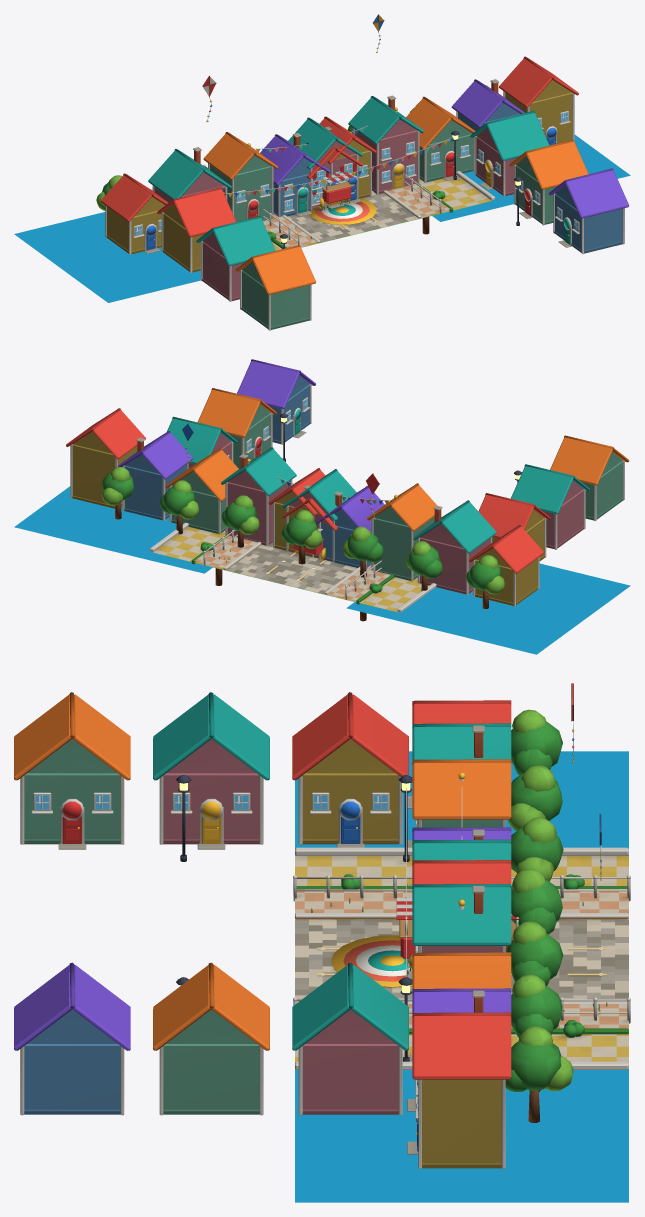
File: runner.glb
3 views of the same model, one above another, from view 1: azimuth 30°, elevation 25°; view 2: azimuth 150°, elevation 25°; view 3: azimuth 270°, elevation 25° (orthographic). The views are drawn at different scales.
Visible parts, largest first — view 1: Run_backdrop_Gloss, Run_backdrop_Satin, Run_track_pier_Water, Run_track_town_Satin, Run_plaza_Satin, Run_house1_Gloss, Run_plaza_Matte, Run_house1_Satin; view 2: Run_backdrop_Satin, Run_backdrop_Gloss, Run_track_pier_Water, Run_track_town_Satin, Run_plaza_Satin, Run_house1_Gloss, Run_track_pier_Satin; view 3: Run_backdrop_Satin, Run_backdrop_Gloss, Run_track_pier_Water, Run_track_town_Satin, Run_plaza_Satin, Run_plaza_Matte, Run_house1_Gloss, Run_track_pier_Gloss, Run_track_garden_Satin, Run_track_pier_Satin, Run_cart_Satin.
Part boxes in pixels (x1,y1,x2,y2): Run_backdrop_Gloss: (101, 56, 629, 294); Run_backdrop_Satin: (96, 14, 624, 330); Run_track_pier_Water: (14, 134, 630, 302); Run_track_town_Satin: (263, 182, 453, 248); Run_plaza_Satin: (150, 171, 495, 250); Run_house1_Gloss: (288, 117, 362, 207); Run_plaza_Matte: (309, 198, 376, 224); Run_house1_Satin: (310, 141, 358, 208); Run_backdrop_Satin: (70, 375, 624, 608); Run_backdrop_Gloss: (66, 359, 629, 573); Run_track_pier_Water: (14, 486, 630, 654); Run_track_town_Satin: (191, 534, 394, 604); Run_plaza_Satin: (149, 522, 436, 612); Run_house1_Gloss: (282, 469, 356, 520); Run_track_pier_Satin: (203, 530, 375, 621); Run_backdrop_Satin: (20, 683, 601, 1168); Run_backdrop_Gloss: (14, 692, 511, 1151); Run_track_pier_Water: (295, 751, 628, 1202); Run_track_town_Satin: (295, 886, 628, 1034); Run_plaza_Satin: (295, 847, 628, 1069); Run_plaza_Matte: (331, 935, 412, 987); Run_house1_Gloss: (412, 839, 511, 860); Run_track_pier_Gloss: (296, 877, 627, 1013); Run_track_garden_Satin: (295, 874, 628, 1037); Run_track_pier_Satin: (293, 875, 630, 1023); Run_cart_Satin: (396, 897, 519, 937).
Size of the model in its own units: 38.4 by 11.32 by 22.18.
